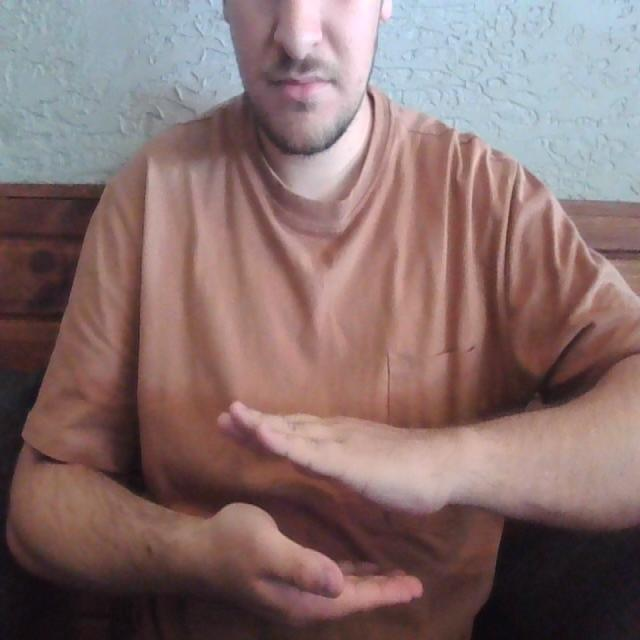Arkadas: (66, 410, 628, 621)
